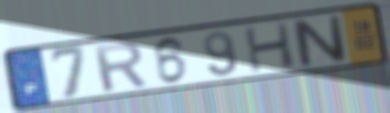6: (151, 36, 190, 85)
7: (48, 45, 88, 102)
9: (201, 29, 239, 78)
H: (241, 20, 299, 75)
N: (288, 13, 351, 69)
R: (90, 40, 150, 94)
